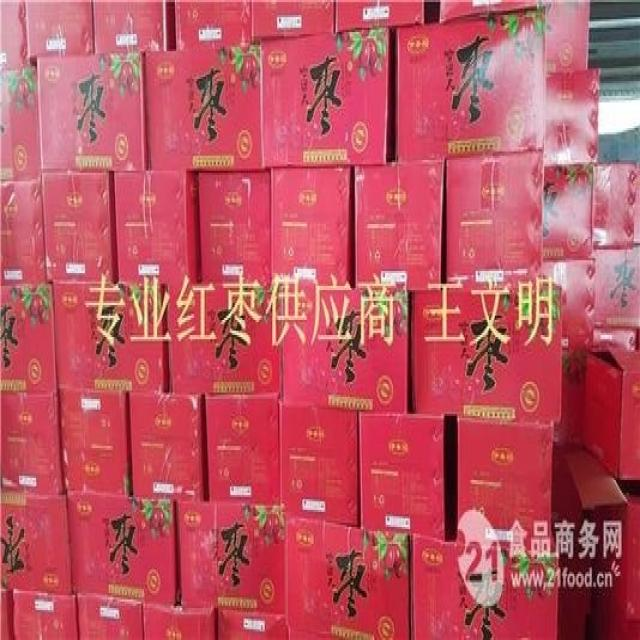box: (392, 7, 544, 159), (410, 282, 562, 419), (260, 27, 391, 166), (285, 508, 411, 638), (280, 285, 410, 409), (409, 535, 556, 636), (553, 440, 628, 636), (145, 42, 261, 168), (456, 412, 553, 548), (446, 151, 545, 284), (164, 283, 283, 392), (67, 491, 179, 605), (177, 499, 286, 616), (37, 58, 147, 173), (52, 285, 168, 390), (357, 408, 445, 542), (353, 158, 444, 287), (270, 168, 354, 289), (115, 171, 201, 283), (281, 401, 359, 523), (128, 389, 209, 498), (206, 390, 280, 508), (42, 173, 117, 284), (200, 171, 272, 284), (59, 389, 132, 499), (584, 349, 638, 481), (2, 490, 71, 593), (489, 2, 589, 71), (2, 390, 65, 493), (0, 284, 60, 390), (543, 68, 599, 165), (603, 493, 639, 638), (0, 174, 45, 284), (543, 261, 596, 351), (27, 0, 95, 68), (544, 166, 593, 259), (93, 1, 175, 56), (0, 69, 40, 180), (592, 245, 639, 332), (593, 160, 639, 247), (172, 2, 250, 48), (250, 2, 335, 41), (12, 591, 78, 638), (554, 350, 587, 443), (76, 594, 144, 636), (285, 616, 411, 636), (144, 602, 217, 636), (334, 3, 426, 29), (216, 608, 286, 638), (0, 0, 27, 70), (426, 2, 491, 18), (593, 326, 639, 348), (1, 585, 14, 637)
